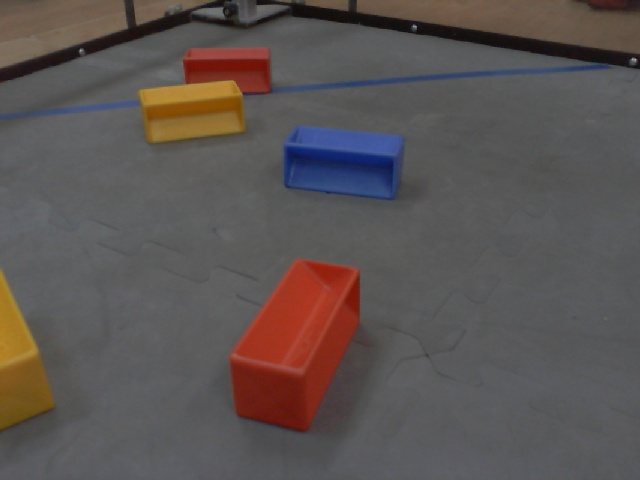BlueSample: (279, 124, 409, 200)
RedSample: (228, 255, 364, 434), (183, 46, 274, 94)
YellowSample: (1, 267, 57, 435), (137, 80, 251, 147)
